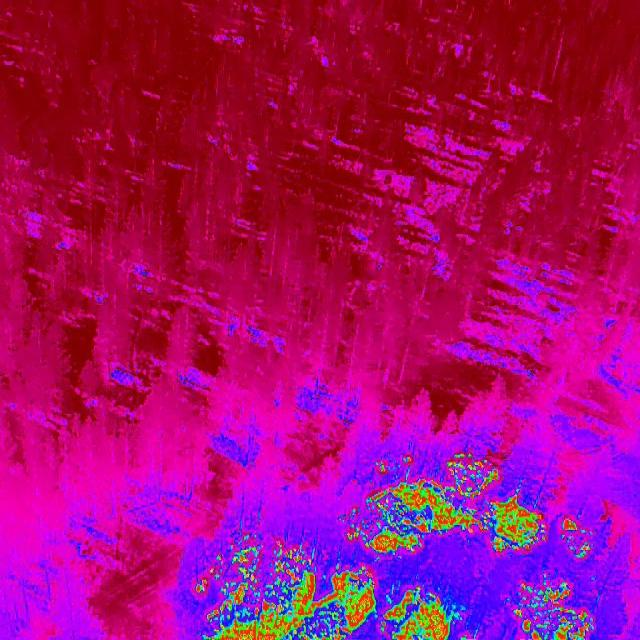fire: (338, 450, 546, 561), (192, 530, 318, 640), (504, 574, 596, 640), (379, 580, 472, 640), (319, 560, 377, 640), (558, 513, 596, 563)
